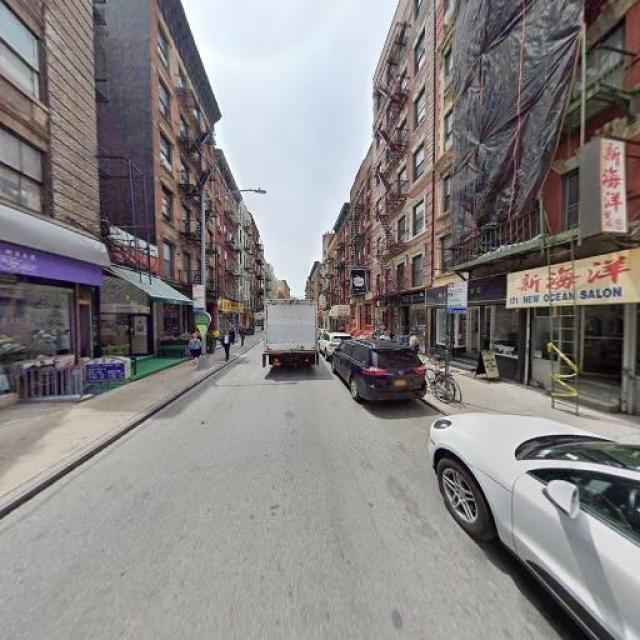Building: (440, 1, 640, 402), (1, 1, 99, 399), (373, 1, 437, 354), (158, 1, 214, 358), (218, 147, 238, 340), (352, 160, 370, 340), (338, 209, 349, 334), (241, 198, 250, 334), (253, 220, 259, 330)
